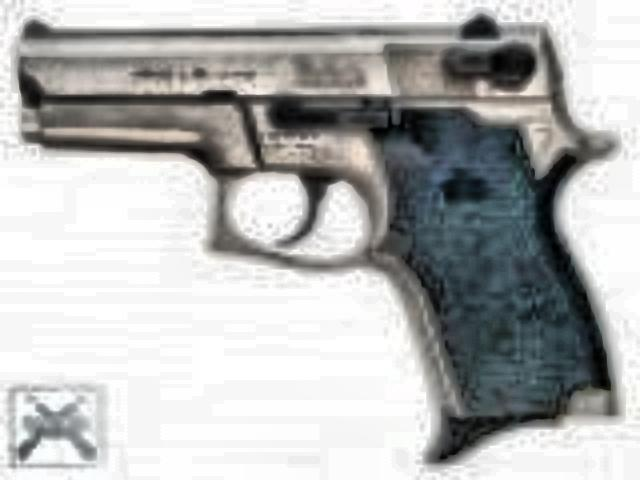pistol: (12, 4, 616, 448)
